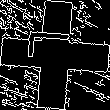L_E: (29, 38, 81, 72)
